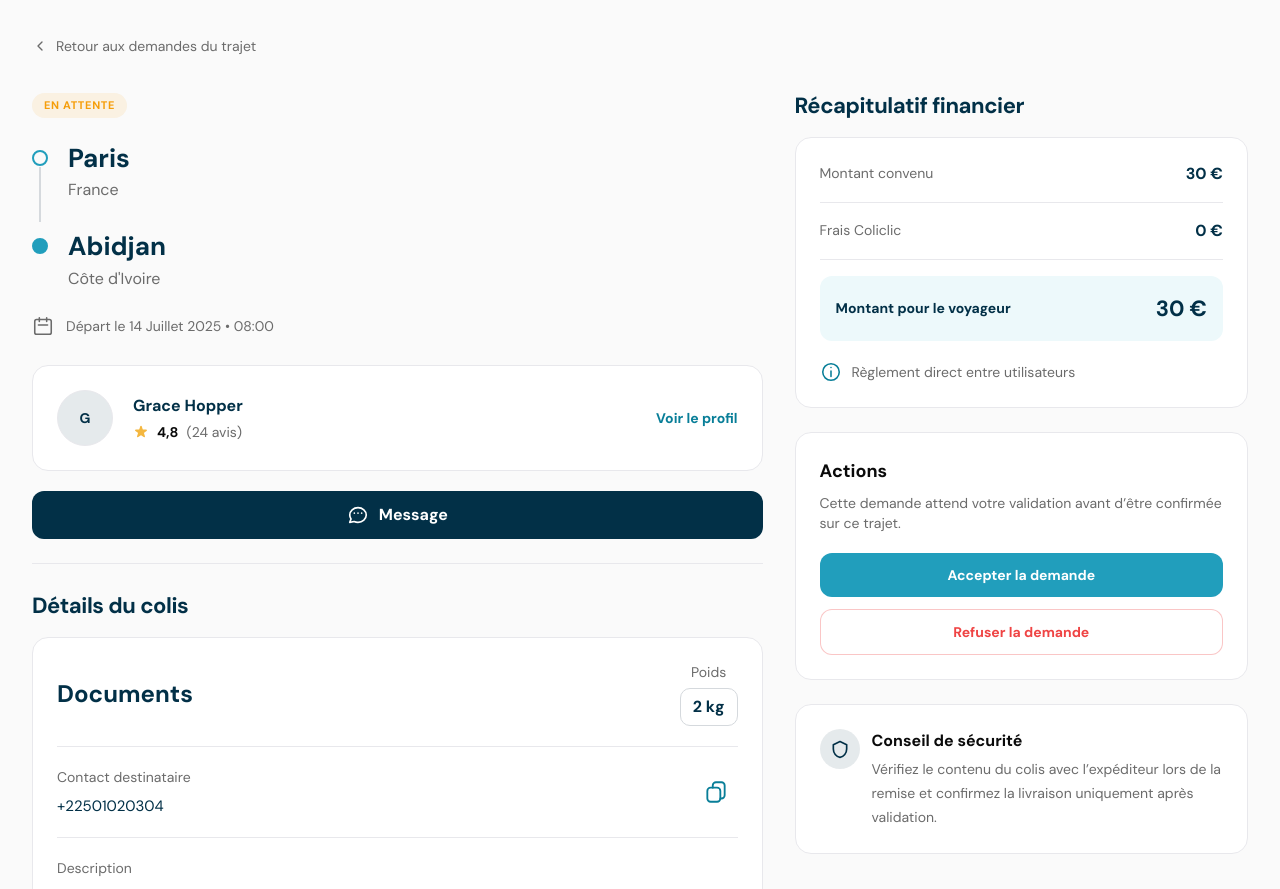
Test case: ReservationBookingDetailPageComponent › refuses a pending booking from the action button
Click the button "Refuser la demande".
click(1021, 632)  # box [820,609,1223,655]
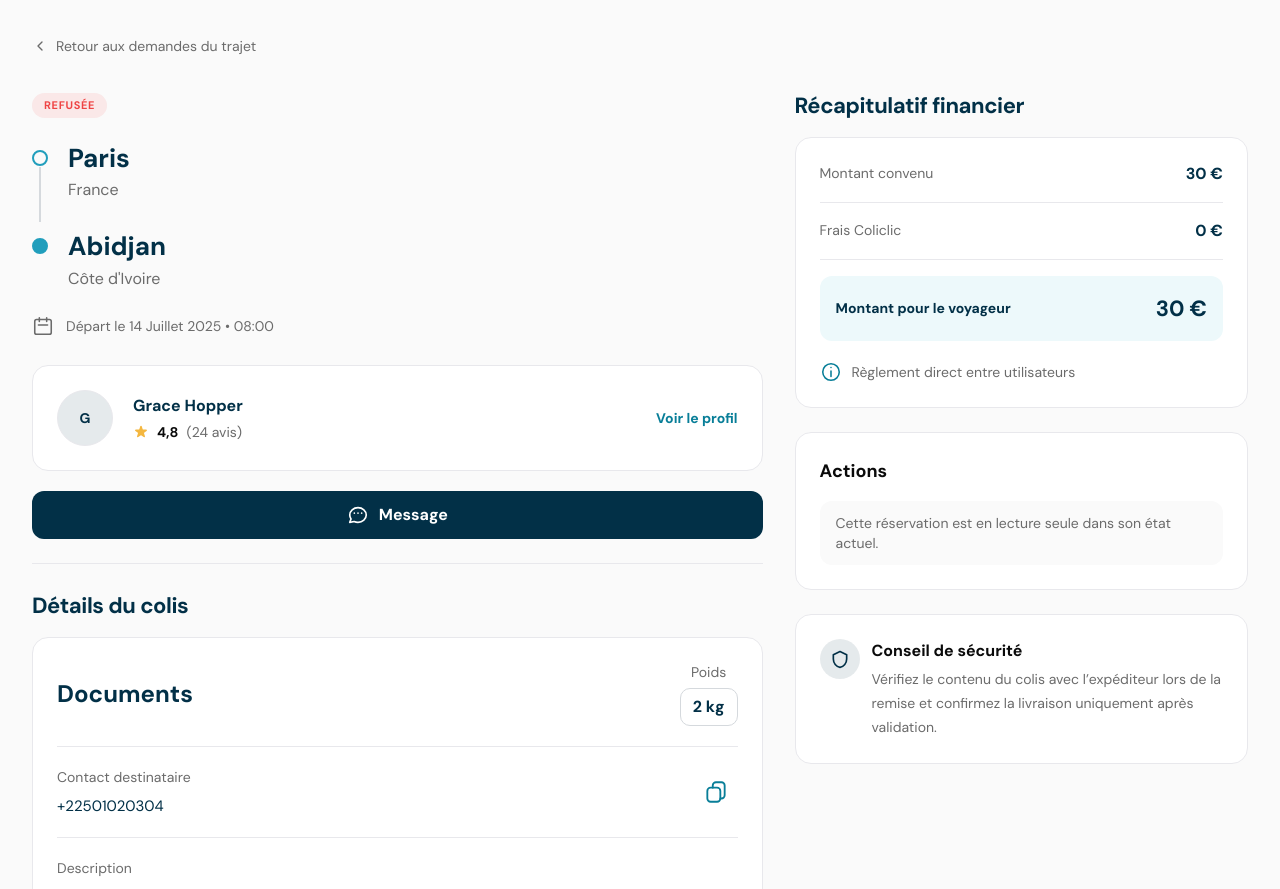
Check: the text "lecture seule" is shown, box [836,514,1171,552]
